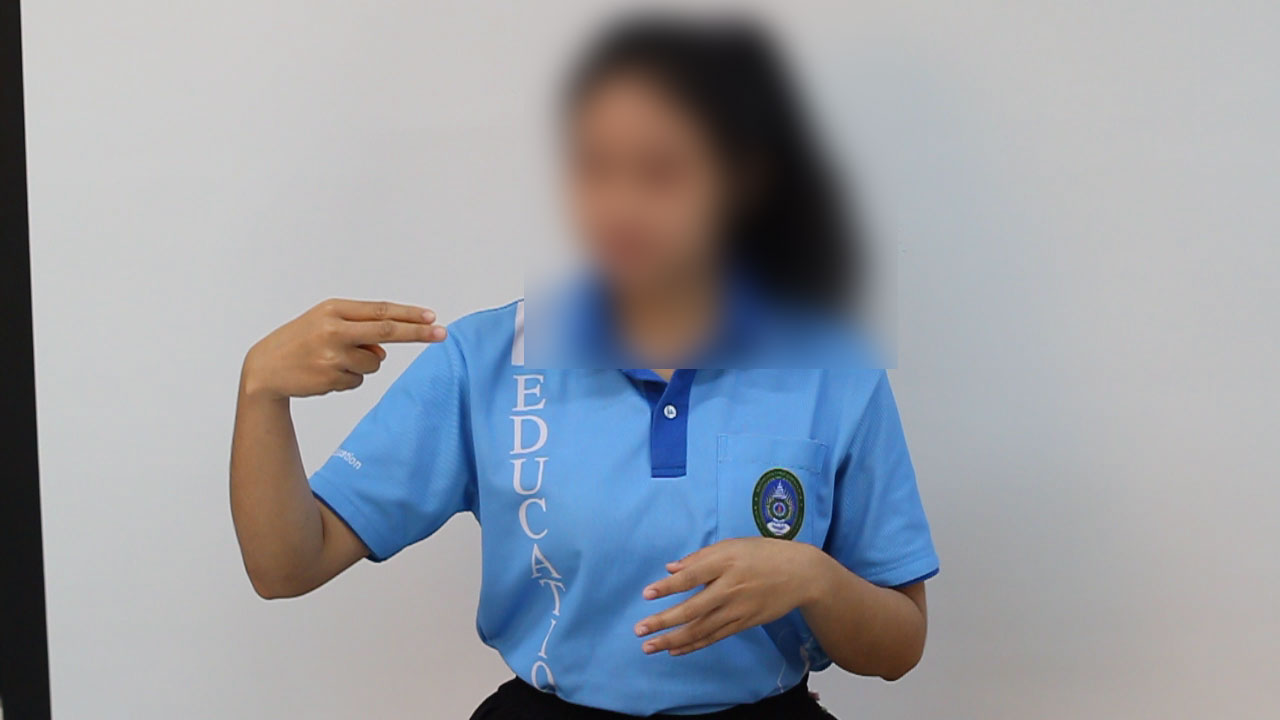hor: (215, 279, 463, 406)
